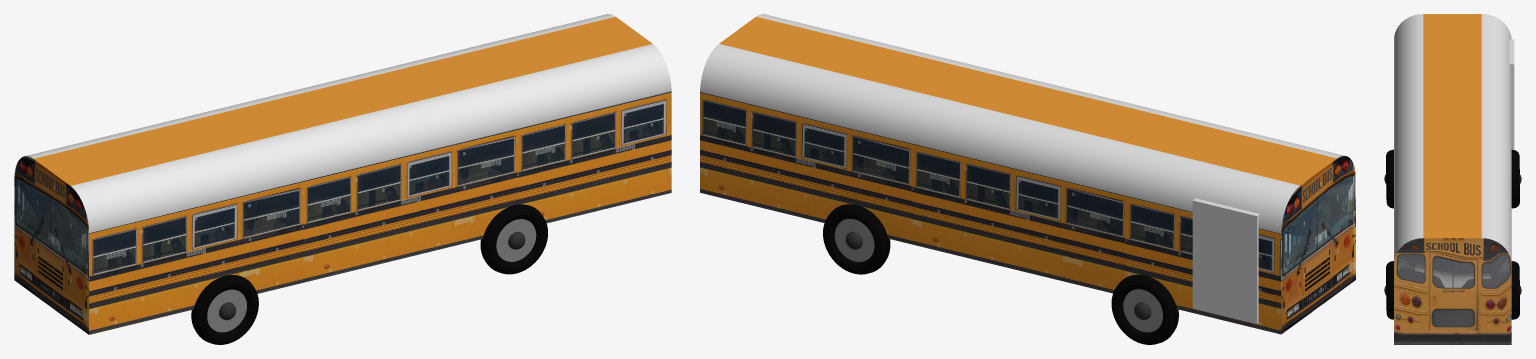
Rendered from school bus 5.fbx.
3 views of the same model, side by side, from view 1: azimuth 30°, elevation 25°; view 2: azimuth 150°, elevation 25°; view 3: azimuth 270°, elevation 25° (orthographic). The views are drawn at different scales.
Parts seen in each view (by area): view 1: Cube, Torus.004, Torus.001, Cylinder.007, Cylinder.003; view 2: Cube, Cube.001, Torus.002, Torus.003, Cylinder.004, Cylinder.006; view 3: Cube, Torus.003, Torus.002, Cube.001, Torus.001, Torus.004.
Part boxes in pixels (x1,y1,x2,y2): Cube: (14, 14, 671, 334); Torus.004: (480, 204, 547, 274); Torus.001: (191, 275, 258, 344); Cylinder.007: (496, 219, 536, 261); Cylinder.003: (207, 289, 246, 332); Cube: (700, 14, 1355, 334); Cube.001: (1192, 198, 1259, 324); Torus.002: (1111, 274, 1178, 344); Torus.003: (823, 204, 890, 274); Cylinder.004: (1123, 289, 1162, 332); Cylinder.006: (834, 219, 874, 261); Cube: (1394, 14, 1511, 344); Torus.003: (1511, 261, 1519, 319); Torus.002: (1511, 149, 1519, 208); Cube.001: (1509, 39, 1514, 149); Torus.001: (1386, 149, 1393, 208); Torus.004: (1386, 261, 1393, 319).
Bounding box in the file's own units: 1800 × 522 × 465.
